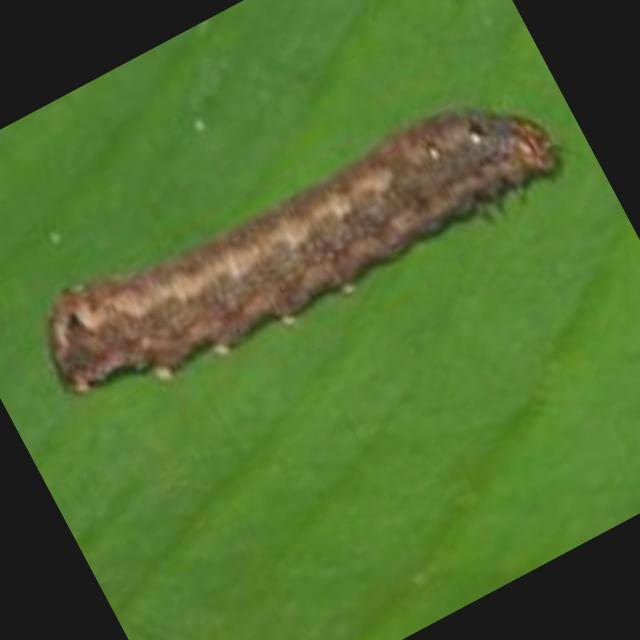Tobacco cutworm: (0, 11, 614, 496)
